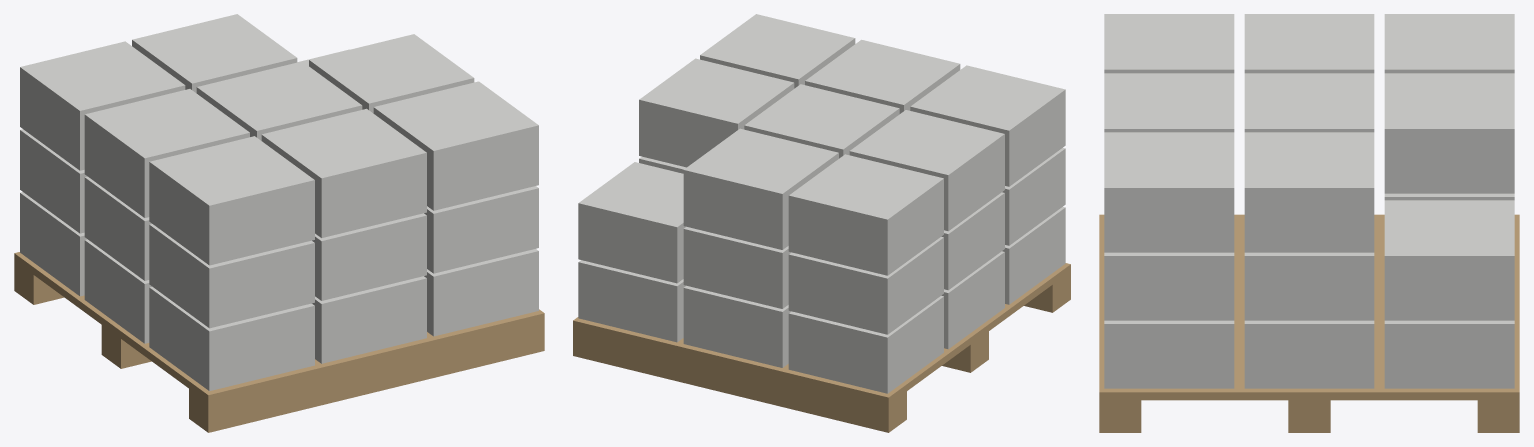
Rendered from pallet_mp_26.glb.
3 renders of one model, left to right at view 1: azimuth 30°, elevation 25°; view 2: azimuth 150°, elevation 25°; view 3: azimuth 270°, elevation 25°, orthographic. The views are drawn at different scales.
Visible parts, largest first — view 1: PalletMP; view 2: PalletMP; view 3: PalletMP.
Boxes of the visible parts, x1,y1,x2,y2 form: PalletMP: (14,14,544,432); PalletMP: (573,14,1070,432); PalletMP: (1099,14,1519,432).
Size of the model in its own units: 1 by 0.6386 by 1.
